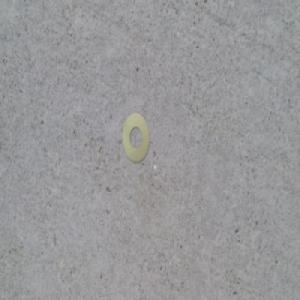Washer: (121, 110, 149, 165)
